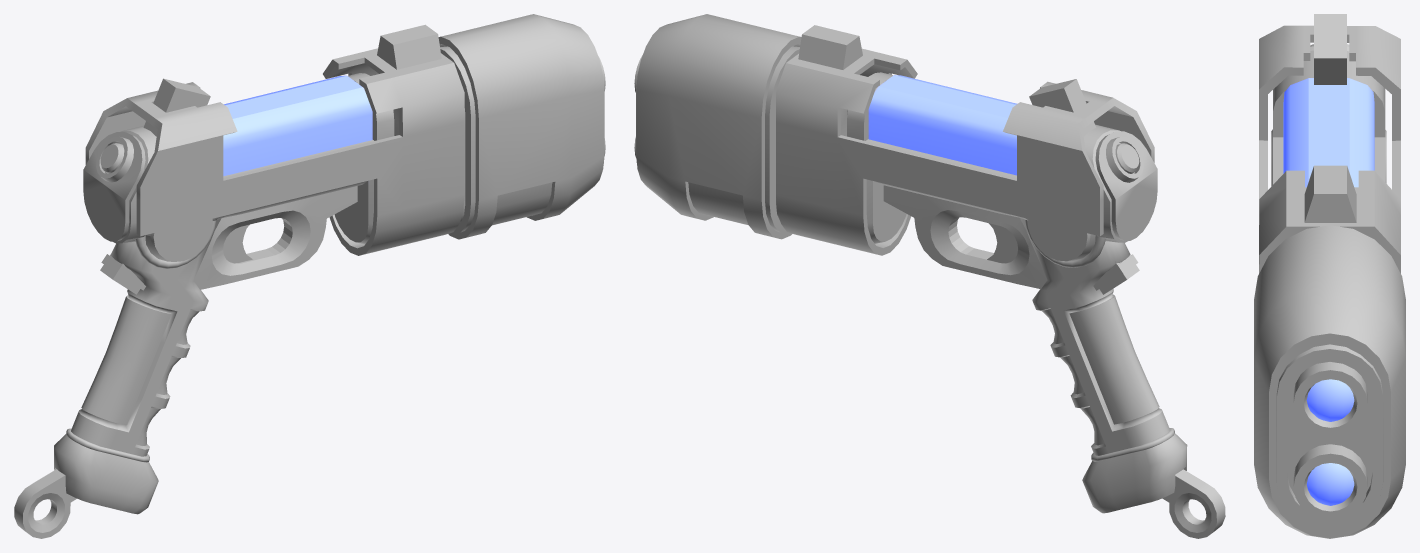
File: pistolalowmodel.fbx
The picture shows the model from 3 angles, left to right: view 1: azimuth 30°, elevation 25°; view 2: azimuth 150°, elevation 25°; view 3: azimuth 270°, elevation 25°; orthographic projection. The views are drawn at different scales.
Parts seen in each view (by area): view 1: Gun_final; view 2: Gun_final; view 3: Gun_final.
Part boxes in pixels (<box>): Gun_final: <box>14,14,605,538</box>; Gun_final: <box>634,14,1225,538</box>; Gun_final: <box>1254,14,1405,538</box>.
Bounding box in the file's own units: 0.2975 × 0.2084 × 0.0523.
